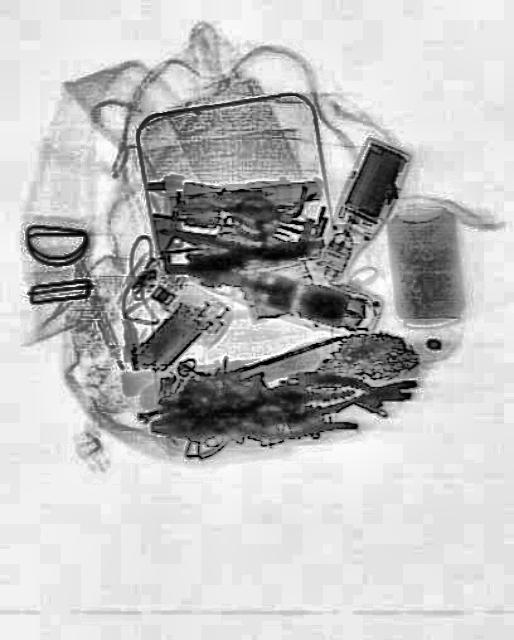Pliers: (289, 367, 417, 415)
